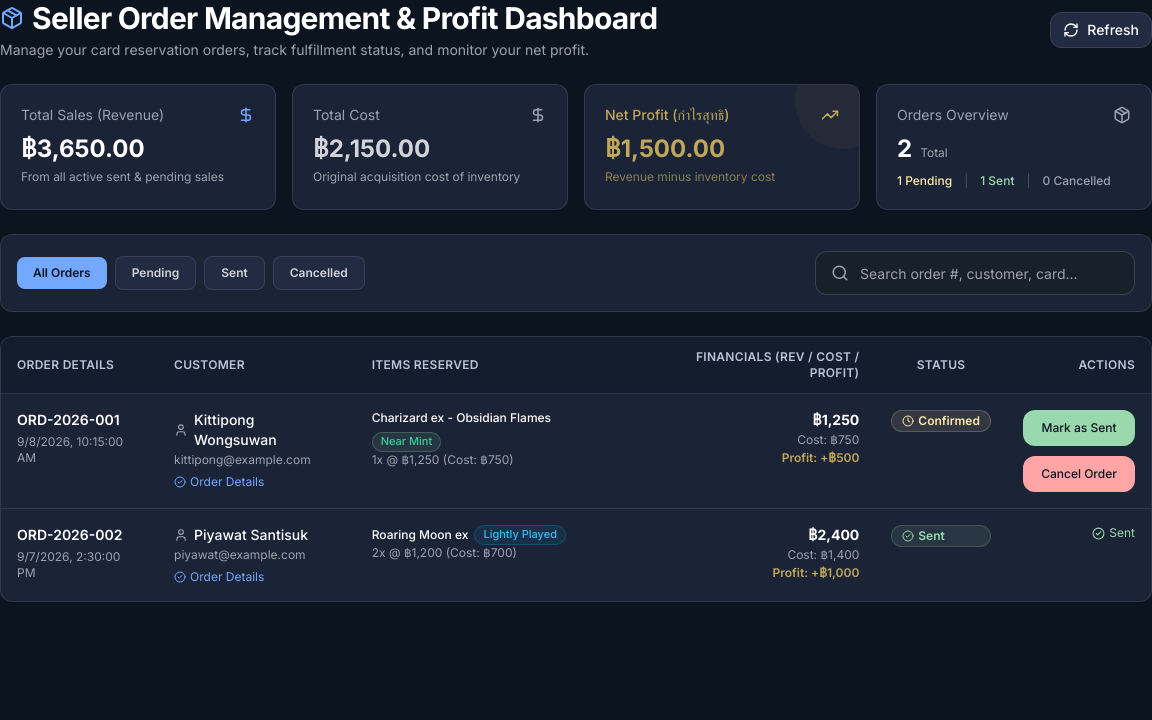
Test case: SellerOrdersPage (SCRUM-27) › displays card condition badge in items list and inside Order Details modal
The width and height of the screenshot is (1152, 720).
Expected: the text "Near Mint" is shown, [372, 432, 441, 452]
Expected: the text "Lightly Played" is shown, [474, 525, 566, 545]
# Click "Order Details" button for the first order
Click the button "Order Details" below "kittipong@example.com": {"x": 219, "y": 482} [174, 474, 264, 490]
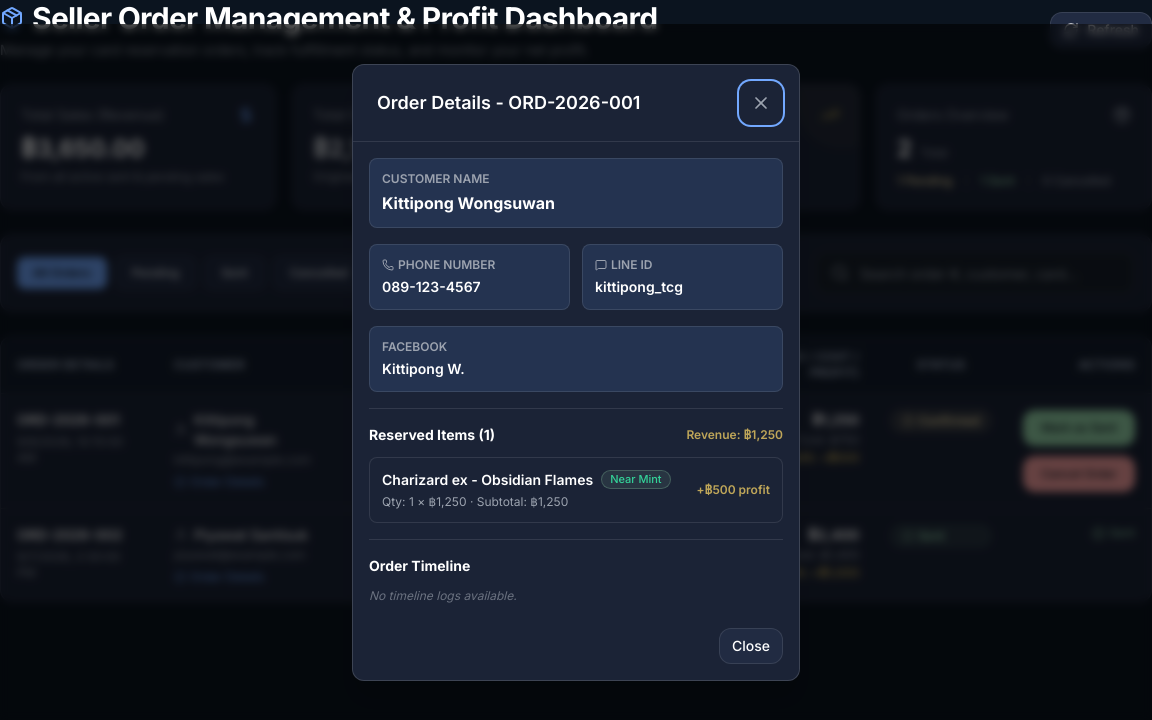
Expected: the heading "Order Details - ORD-2026-001" is shown, [377, 88, 640, 116]
Expected: the heading "Reserved Items (1)" is shown, [369, 424, 495, 444]
